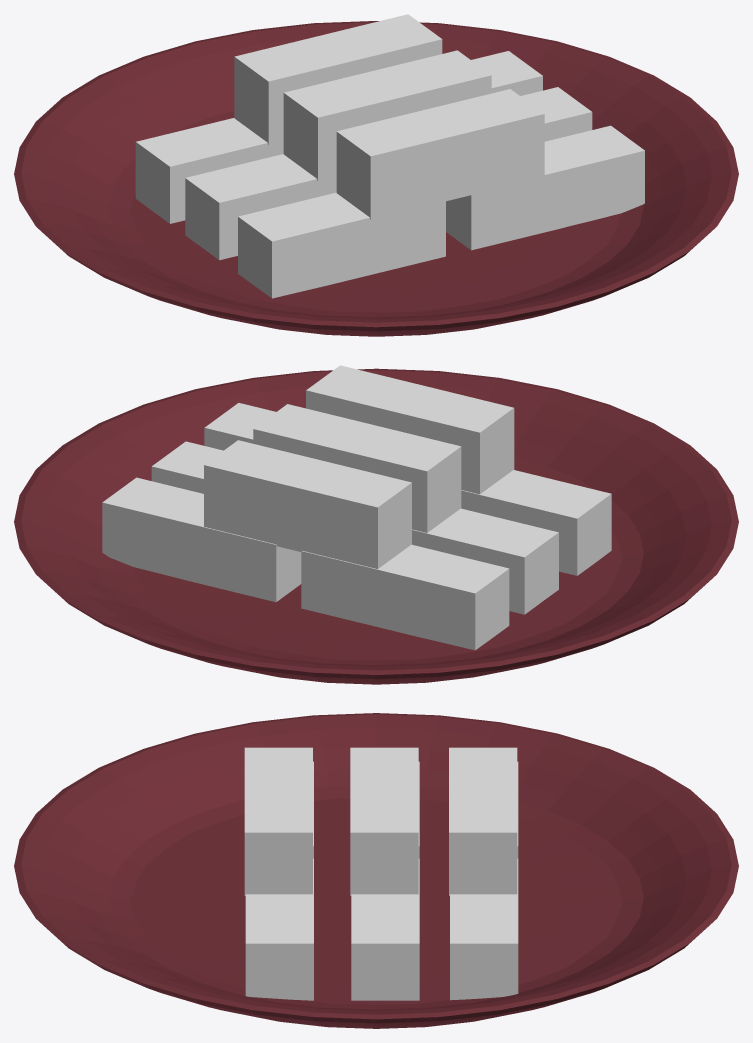
Rendered from kue jipang.fbx.
3 renders of one model, top to bottom at view 1: azimuth 30°, elevation 25°; view 2: azimuth 150°, elevation 25°; view 3: azimuth 270°, elevation 25°, orthographic.
Parts seen in each view (by area): view 1: Cylinder, Cube.008, Cube.002, Cube.005, Cube.007, Cube.006, Cube.001, Cube, Cube.004, Cube.003; view 2: Cylinder, Cube.006, Cube, Cube.003, Cube.008, Cube.007, Cube.002, Cube.001, Cube.004, Cube.005; view 3: Cylinder, Cube.007, Cube.008, Cube.006, Cube.004, Cube.005, Cube.003.
Boxes of the visible parts, bbox=[...] form: Cylinder: bbox=[14, 21, 738, 336]; Cube.008: bbox=[336, 89, 544, 219]; Cube.002: bbox=[238, 192, 445, 298]; Cube.005: bbox=[446, 125, 644, 250]; Cube.007: bbox=[283, 50, 491, 180]; Cube.006: bbox=[234, 14, 442, 144]; Cube.001: bbox=[185, 154, 336, 260]; Cube: bbox=[135, 118, 283, 223]; Cube.004: bbox=[520, 87, 592, 141]; Cube.003: bbox=[471, 51, 542, 95]; Cylinder: bbox=[14, 368, 738, 684]; Cube.006: bbox=[204, 440, 411, 568]; Cube: bbox=[301, 544, 509, 650]; Cube.003: bbox=[102, 477, 301, 602]; Cube.008: bbox=[306, 365, 514, 494]; Cube.007: bbox=[253, 404, 461, 532]; Cube.002: bbox=[461, 470, 611, 575]; Cube.001: bbox=[412, 508, 558, 614]; Cube.004: bbox=[151, 441, 223, 493]; Cube.005: bbox=[204, 403, 275, 450]; Cylinder: bbox=[14, 713, 738, 1028]; Cube.007: bbox=[350, 747, 418, 895]; Cube.008: bbox=[244, 747, 312, 895]; Cube.006: bbox=[449, 747, 517, 895]; Cube.004: bbox=[351, 858, 419, 1000]; Cube.005: bbox=[245, 858, 313, 1000]; Cube.003: bbox=[450, 858, 518, 1000].
Size of the model in its own units: 231 by 48.44 by 231.
